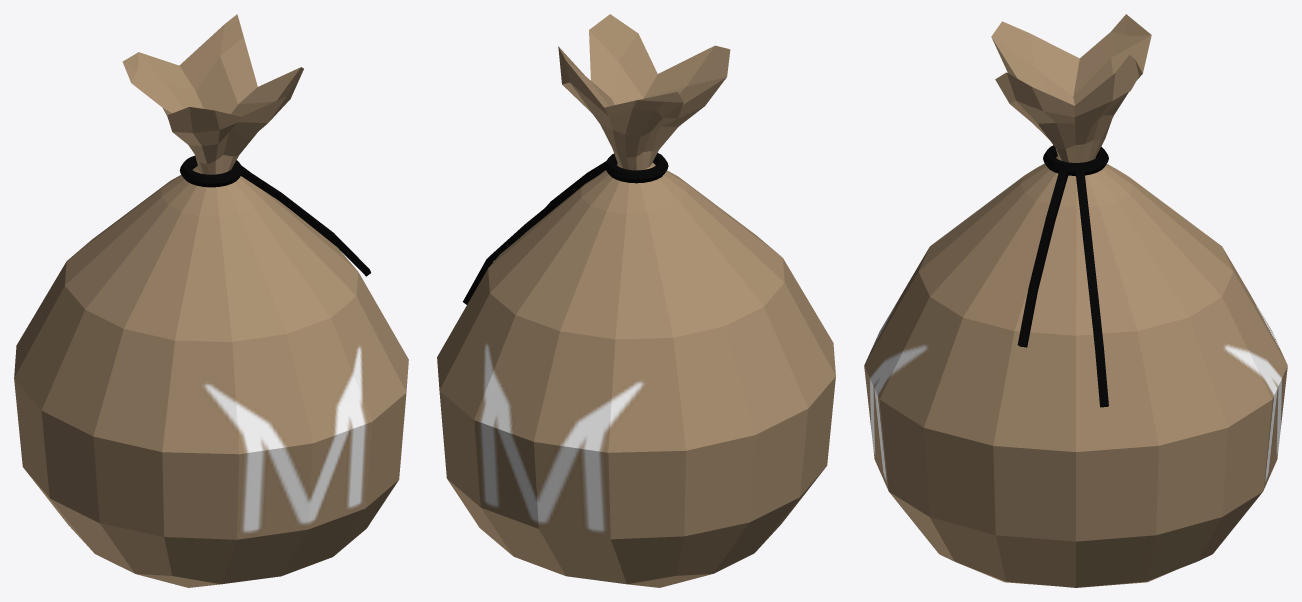
File: Moneybag.fbx
3 views of the same model, side by side, from view 1: azimuth 30°, elevation 25°; view 2: azimuth 150°, elevation 25°; view 3: azimuth 270°, elevation 25° (orthographic). The views are drawn at different scales.
Parts seen in each view (by area): view 1: Cube; view 2: Cube; view 3: Cube.
Boxes of the visible parts, bbox=[...] form: Cube: bbox=[14, 14, 408, 587]; Cube: bbox=[437, 14, 835, 587]; Cube: bbox=[864, 14, 1287, 587].
Size of the model in its own units: 156 by 224 by 161.
2 materials, 1 textured.
